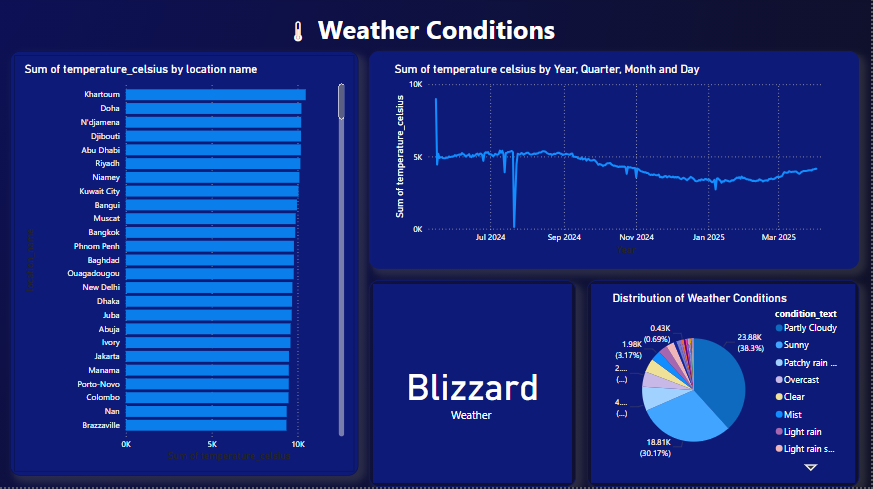

The dashboard page shown, as its layout file describes it:
{"tool":"powerbi","page":{"name":"Page 1","canvas":[1280,720],"ordinal":0},"visuals":[{"type":"shape","box":[864,416,400,304],"z":0},{"type":"shape","box":[544,416,304,304],"z":1000},{"type":"shape","box":[544,80,720,320],"z":2000},{"type":"shape","box":[16,80,512,624],"z":3000},{"type":"lineChart","title":"Sum of temperature celsius by Year, Quarter, Month and Day","fields":{"Y":["GlobalWeatherRepository.temperature_celsius"],"Category":["GlobalWeatherRepository.last_updated.Variation.Date Hierarchy.Year","GlobalWeatherRepository.last_updated.Variation.Date Hierarchy.Quarter","GlobalWeatherRepository.last_updated.Variation.Date Hierarchy.Month","GlobalWeatherRepository.last_updated.Variation.Date Hierarchy.Day"]},"box":[576,96,656,288],"z":4000},{"type":"barChart","title":"Sum of temperature_celsius by location name","fields":{"Y":["GlobalWeatherRepository.temperature_celsius"],"Category":["GlobalWeatherRepository.location_name"]},"box":[32,96,480,592],"z":5000},{"type":"card","fields":{"Values":["GlobalWeatherRepository.condition_text"]},"box":[560,448,272,256],"z":6000},{"type":"pieChart","title":"Distribution of Weather Conditions","fields":{"Y":["GlobalWeatherRepository.condition_text"],"Category":["GlobalWeatherRepository.condition_text"]},"box":[896,432,352,272],"z":7000},{"type":"textbox","box":[416,16,480,64],"z":8000}]}

Visuals, with their boxes in screenshot pixels (x1, y1, x2, y2), scaled from the page's 1280x720 canvas onto the 873x489 screenshot:
shape: bbox=(589, 283, 862, 488)
shape: bbox=(371, 283, 578, 488)
shape: bbox=(371, 54, 862, 272)
shape: bbox=(11, 54, 360, 478)
"Sum of temperature celsius by Year, Quarter, Month and Day" lineChart: bbox=(393, 65, 840, 261)
"Sum of temperature_celsius by location name" barChart: bbox=(22, 65, 349, 467)
card - GlobalWeatherRepository.condition_text: bbox=(382, 304, 567, 478)
"Distribution of Weather Conditions" pieChart: bbox=(611, 293, 851, 478)
textbox: bbox=(284, 11, 611, 54)
